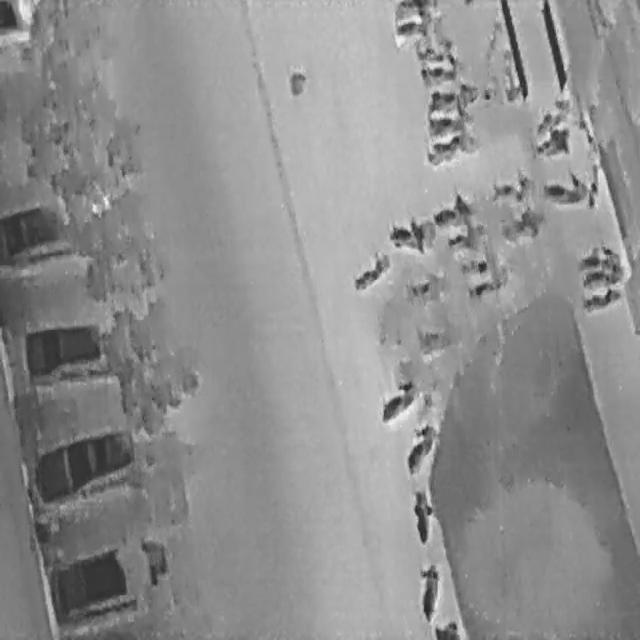Bicycle: (397, 414, 440, 481), (529, 116, 578, 172), (371, 373, 421, 425), (346, 243, 395, 295), (527, 89, 575, 140), (496, 200, 546, 248), (421, 128, 477, 170), (384, 210, 436, 254), (487, 165, 537, 209), (428, 188, 474, 234), (442, 214, 489, 255), (425, 77, 480, 111), (426, 104, 474, 138), (541, 170, 588, 204), (417, 52, 463, 86), (409, 485, 434, 545), (577, 240, 622, 272), (411, 32, 455, 64), (390, 12, 434, 42), (580, 260, 623, 289), (457, 248, 493, 282), (419, 560, 438, 624), (468, 271, 507, 299), (580, 285, 619, 311), (405, 272, 438, 302), (433, 609, 458, 636), (396, 0, 437, 15)
Car: (40, 528, 181, 628), (30, 418, 150, 510), (18, 308, 124, 388), (0, 199, 85, 265), (0, 0, 37, 45)
